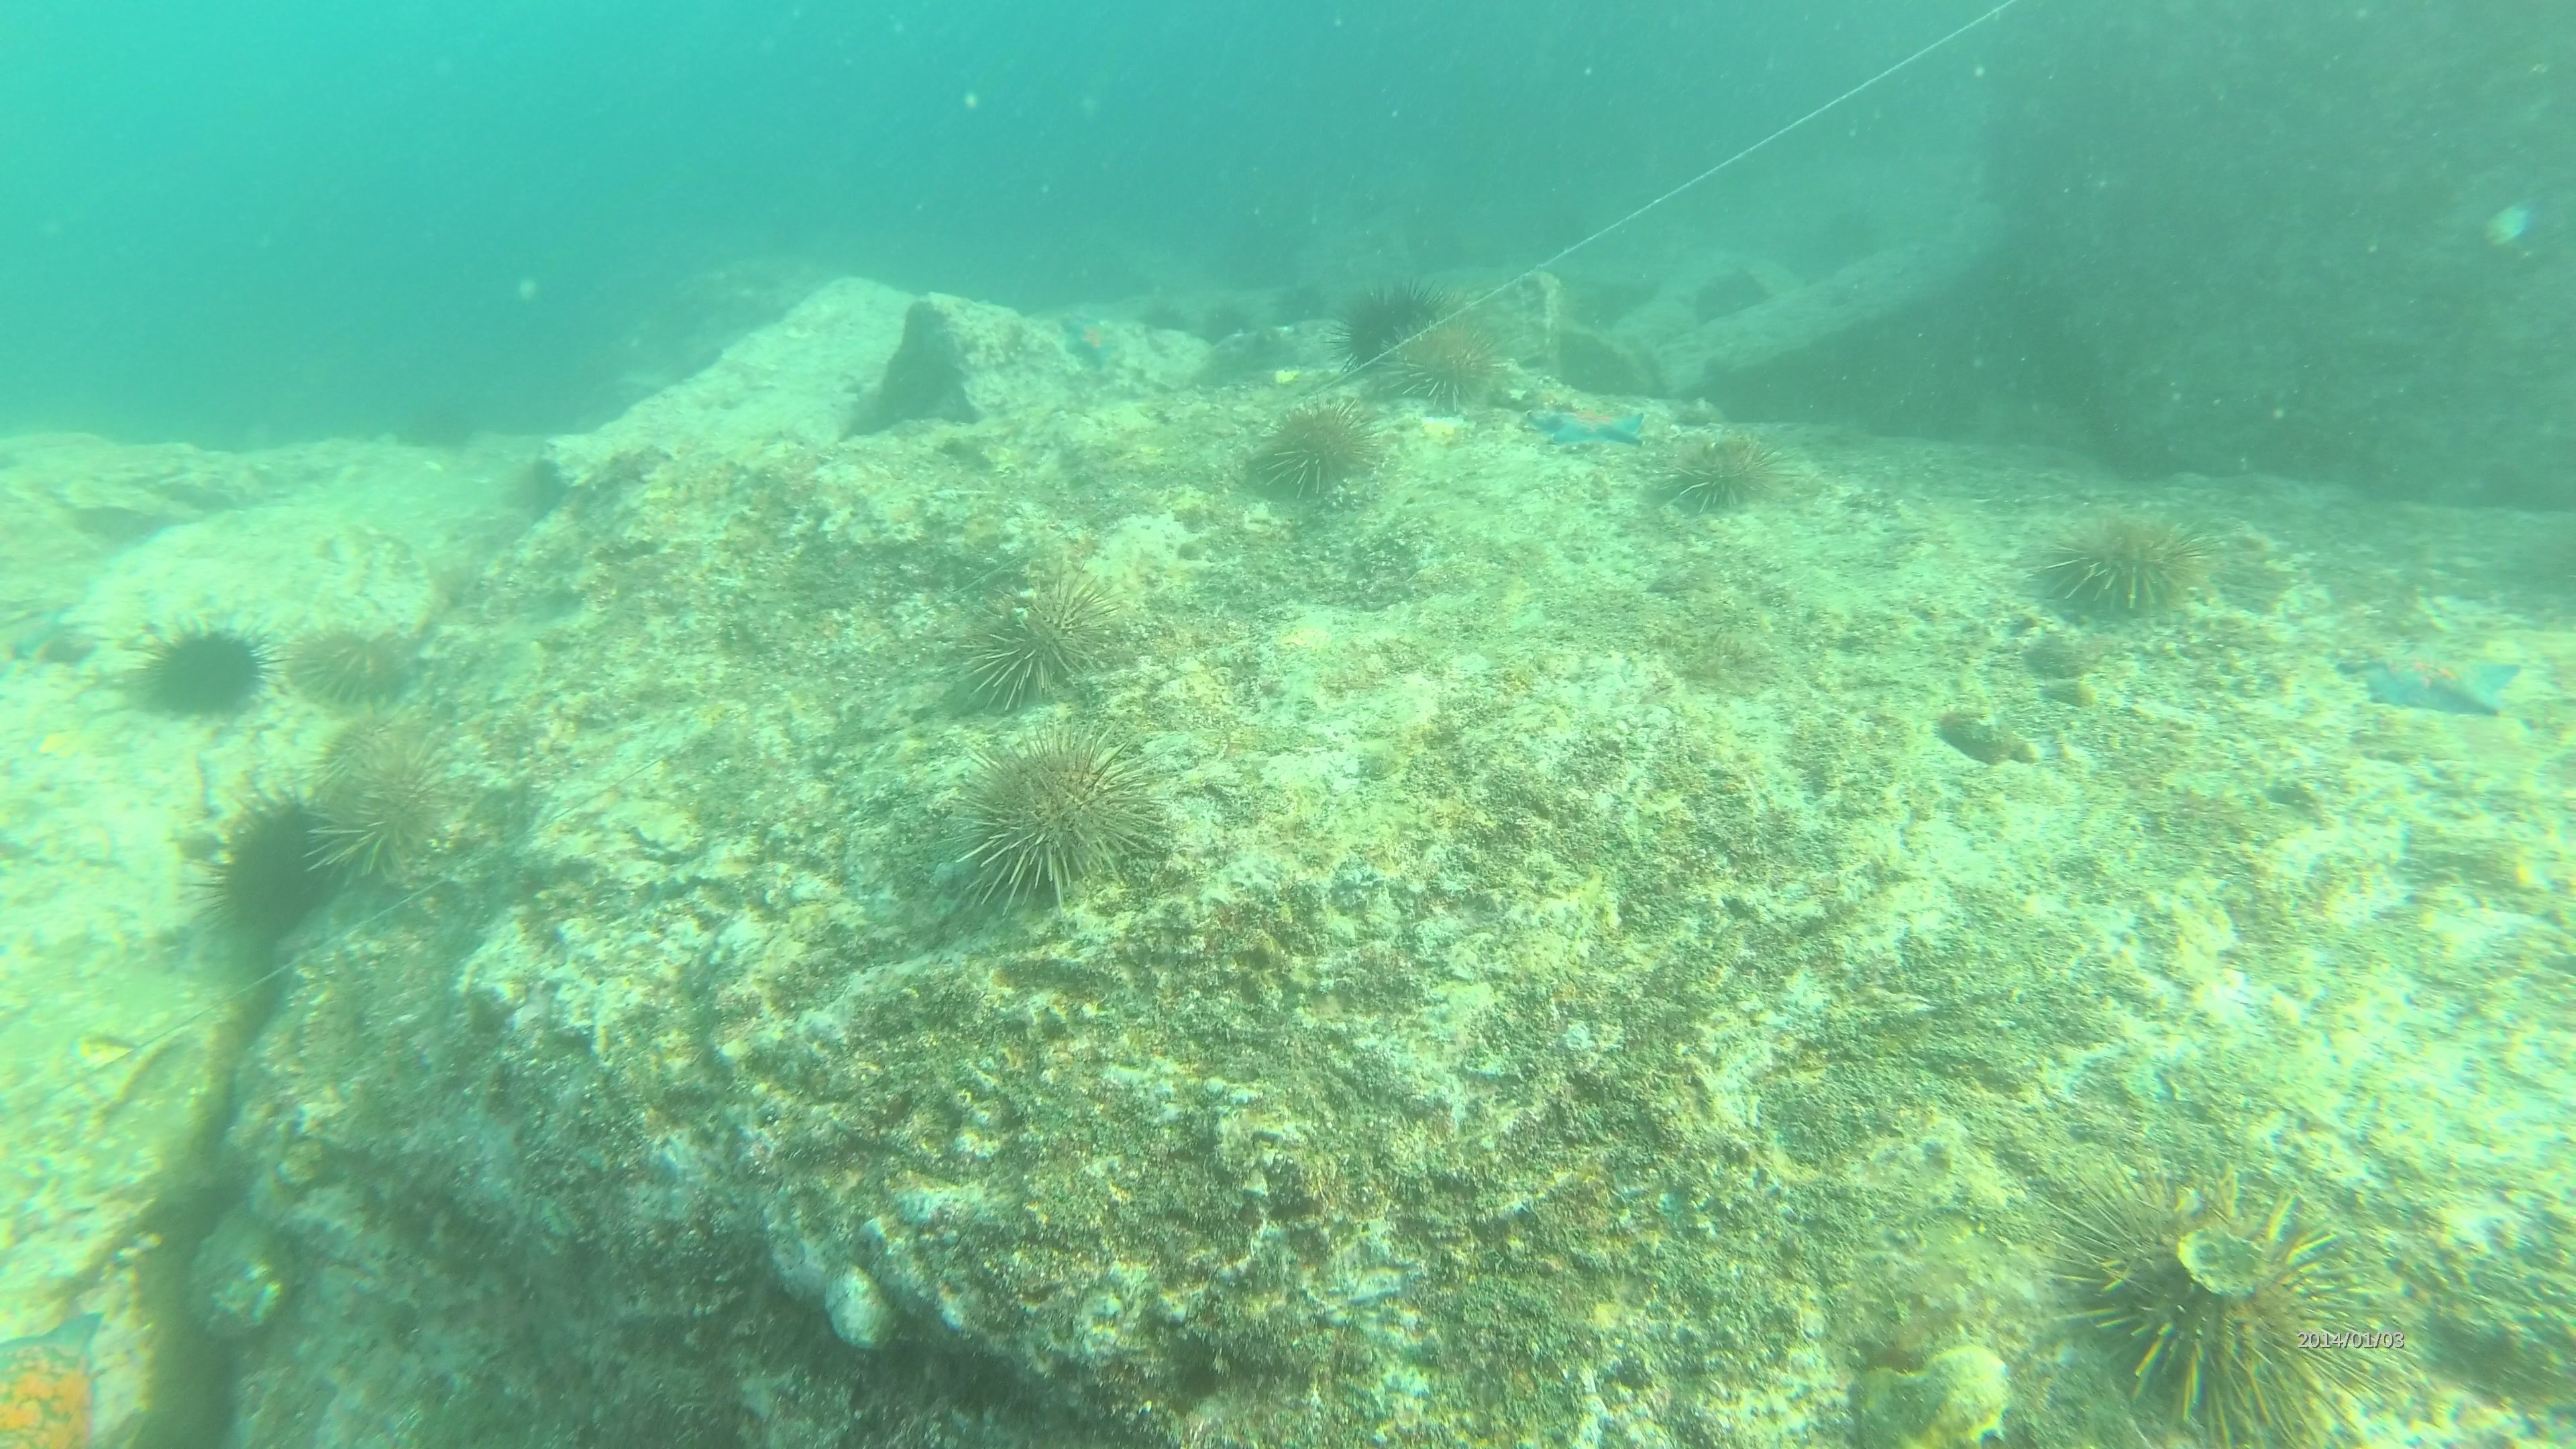echinus: (2045, 1169, 2380, 1440), (954, 729, 1166, 911), (306, 725, 462, 901), (950, 568, 1129, 717), (196, 789, 349, 952), (2029, 502, 2213, 630), (129, 614, 272, 727), (1246, 395, 1384, 508), (1378, 304, 1516, 416), (287, 616, 423, 713), (1658, 425, 1789, 522), (1336, 276, 1445, 372), (395, 387, 481, 456), (1686, 260, 1773, 327), (1205, 299, 1265, 357), (1274, 283, 1325, 331), (1141, 304, 1189, 349)
starfish: (2, 1293, 119, 1449), (2342, 635, 2523, 722), (1522, 387, 1652, 456), (1065, 311, 1118, 366)
